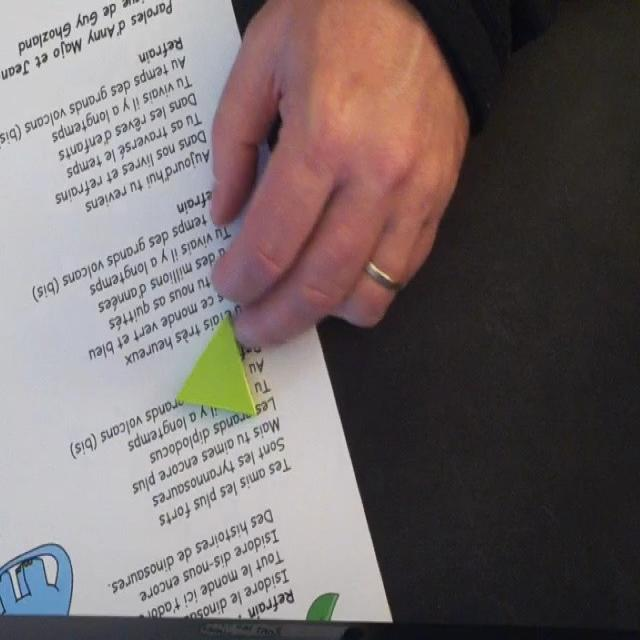triangle: (175, 314, 258, 419)
